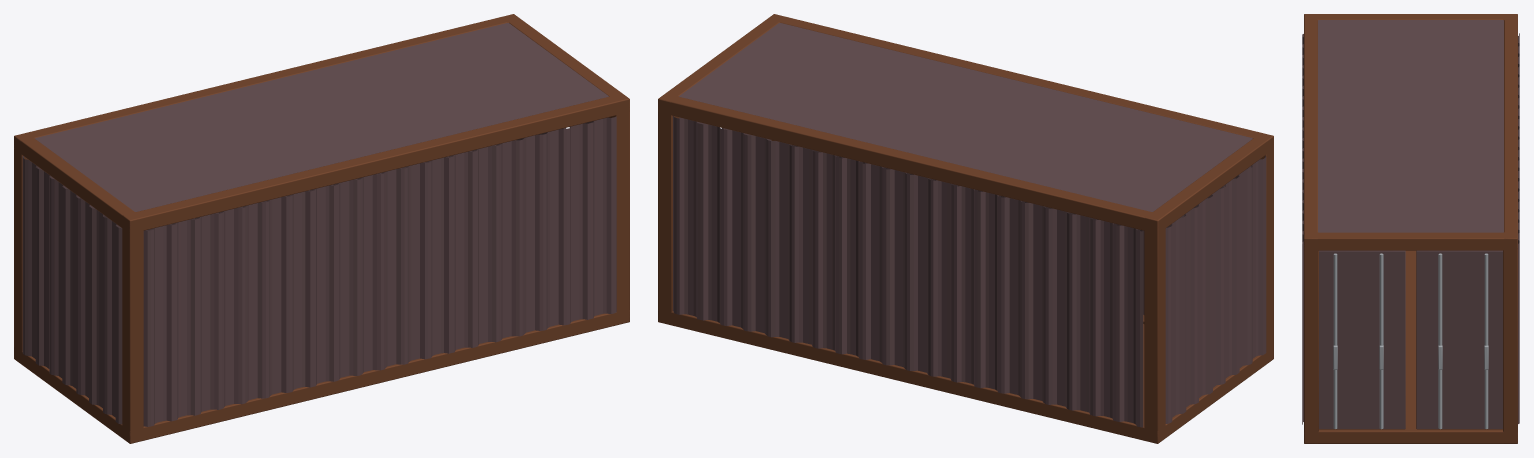
Rendered from container_rusty.fbx.
3 renders of one model, left to right at view 1: azimuth 30°, elevation 25°; view 2: azimuth 150°, elevation 25°; view 3: azimuth 270°, elevation 25°, orthographic. The views are drawn at different scales.
Visible parts, largest first — view 1: container_rusty; view 2: container_rusty; view 3: container_rusty.
Part boxes in pixels (left/top/right/bottom): container_rusty: left=14, top=14, right=629, bottom=443; container_rusty: left=658, top=14, right=1273, bottom=443; container_rusty: left=1302, top=14, right=1519, bottom=443.
Size of the model in its own units: 6.12 by 2.59 by 2.48.
